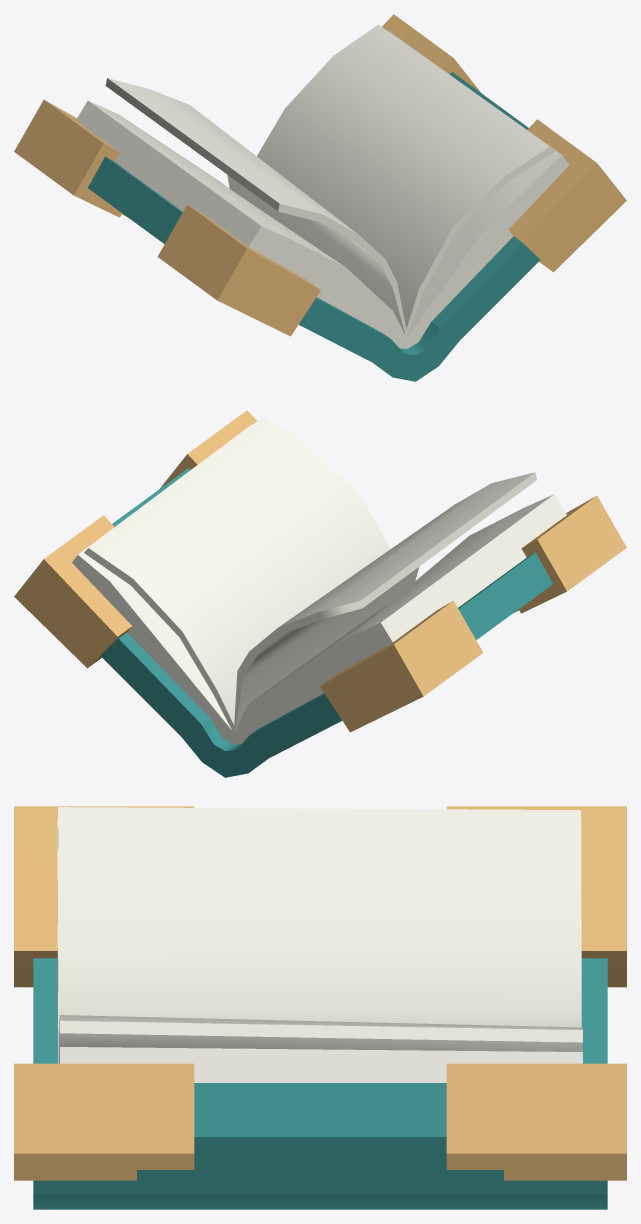
The model's file is Acc_LHand_17.fbx.
The picture shows the model from 3 angles, top to bottom: view 1: azimuth 30°, elevation 25°; view 2: azimuth 150°, elevation 25°; view 3: azimuth 270°, elevation 25°; orthographic projection. The views are drawn at different scales.
Visible parts, largest first — view 1: Acc_LHand_17; view 2: Acc_LHand_17; view 3: Acc_LHand_17.
Part boxes in pixels (x1=…): Acc_LHand_17: x1=14, y1=14, x2=626, y2=381; Acc_LHand_17: x1=14, y1=410, x2=626, y2=777; Acc_LHand_17: x1=14, y1=806, x2=626, y2=1209.
Bounding box in the file's own units: 29.49 × 13.99 × 25.35.
